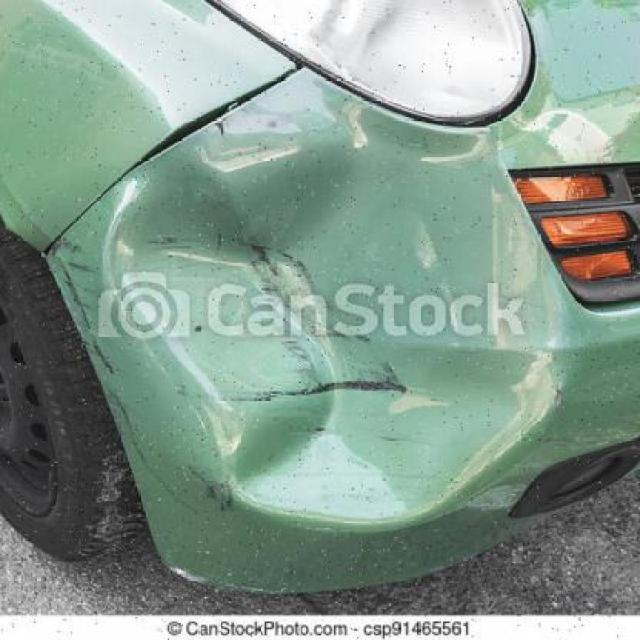front-bumper-dent: (62, 71, 640, 600)
